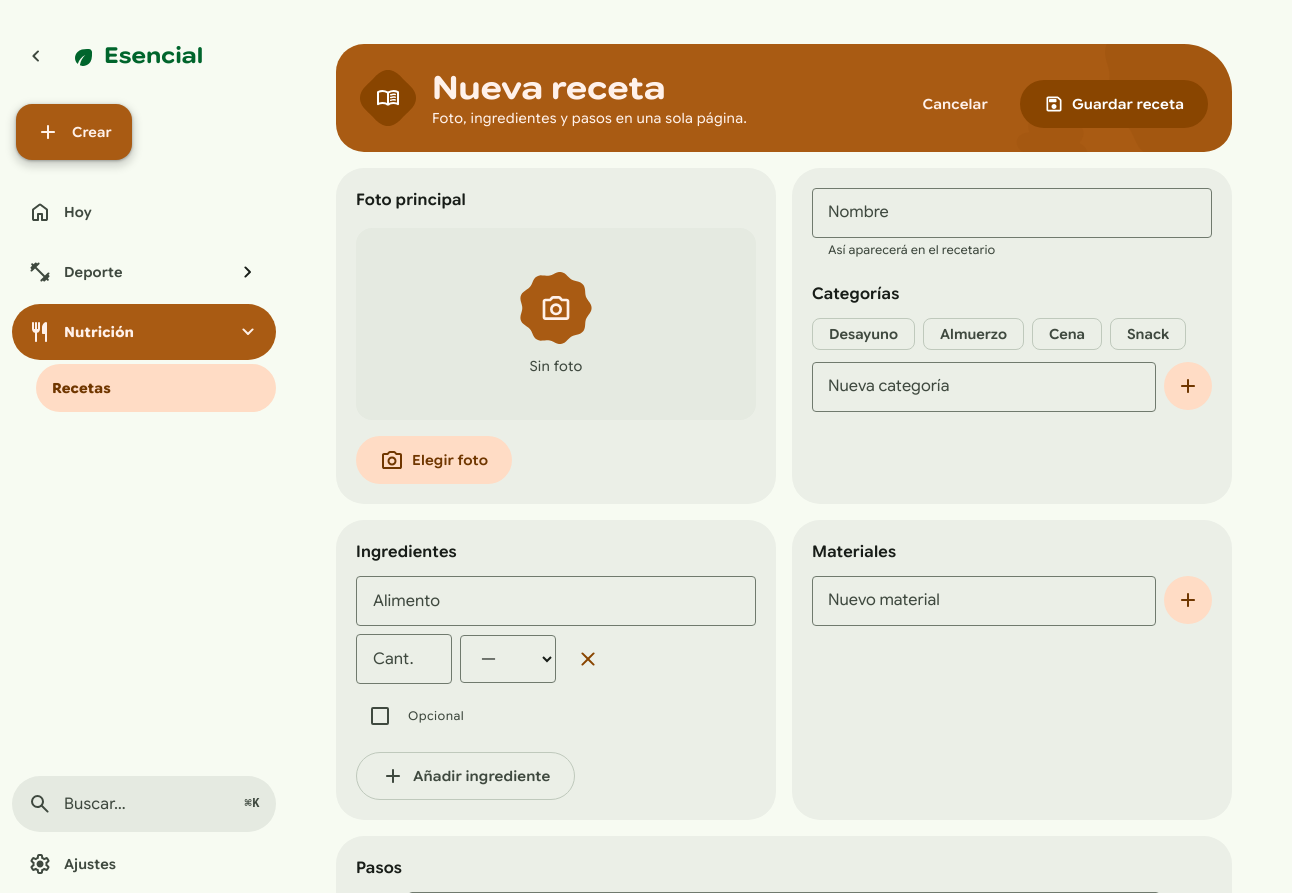
Scenario: nueva-receta: filas › materiales: añadir/eliminar chip
Expected: the heading "Nueva receta" is shown, [432,68,666,108]
In the field labelled "Nuevo material": [984, 601] box [812,576,1156,626], type "olla"
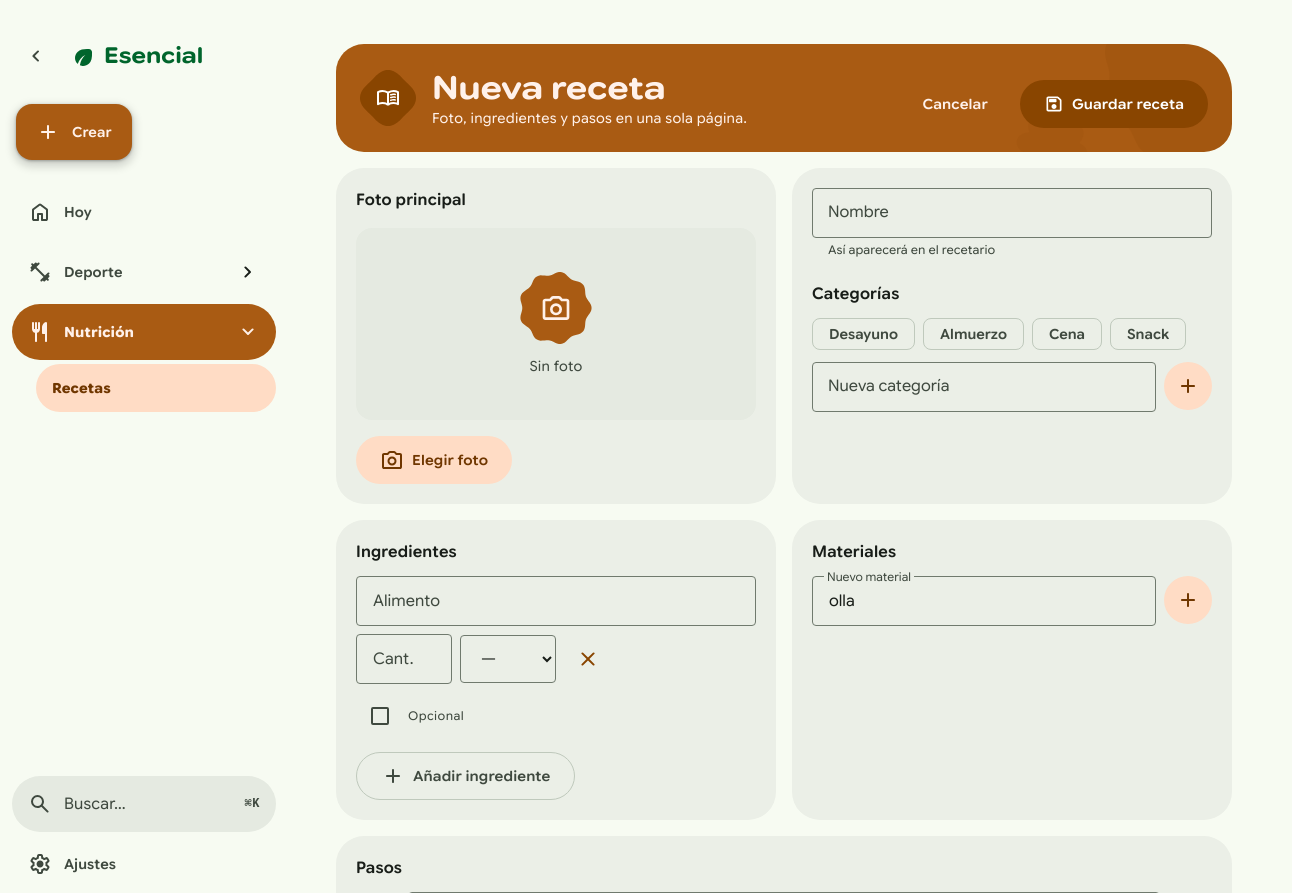
Click the button named "Añadir material": [1188, 600] box [1164,576,1212,624]
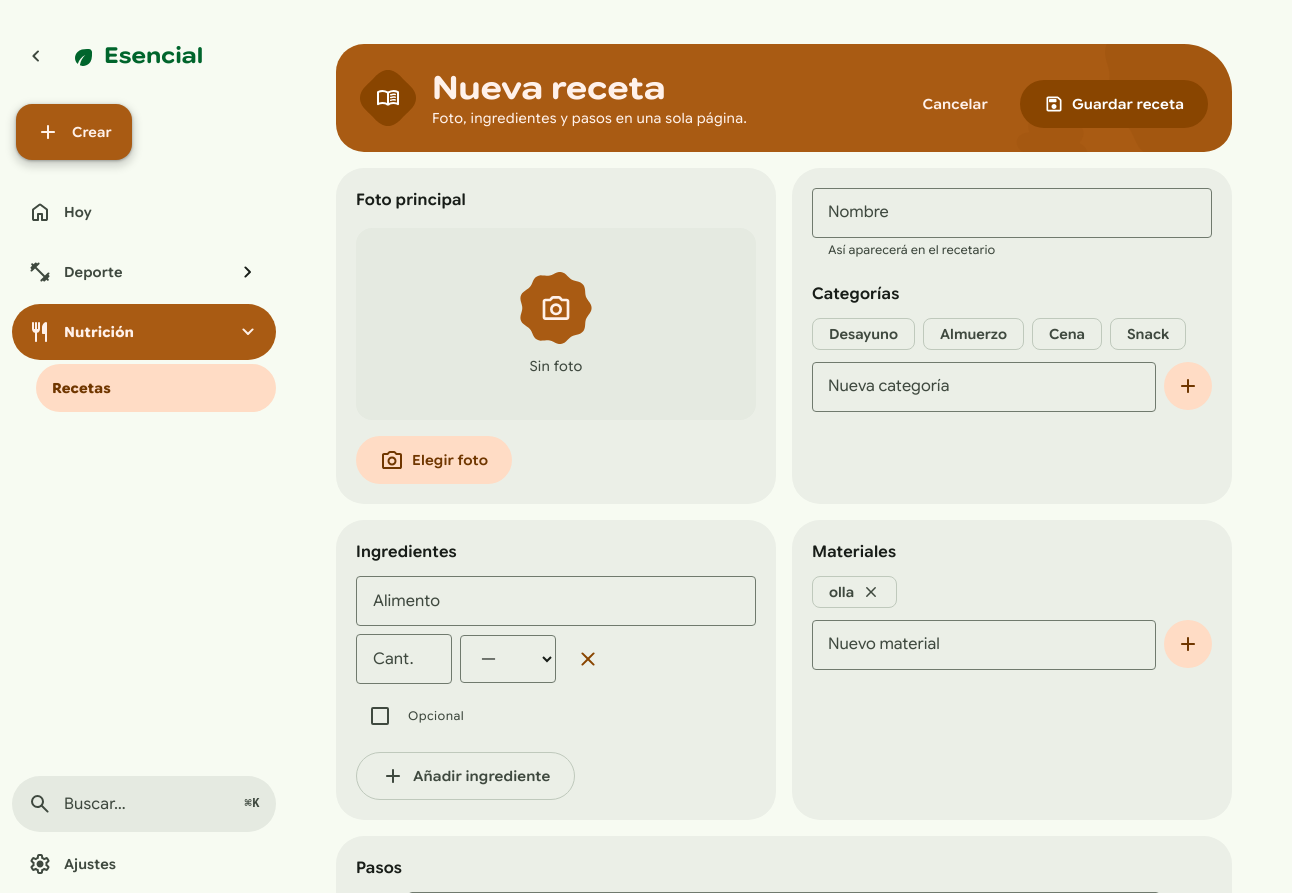
Expected: the button "olla" is shown
Click the button with aria-label "Quitar material olla": [855, 592] box [812,576,897,608]
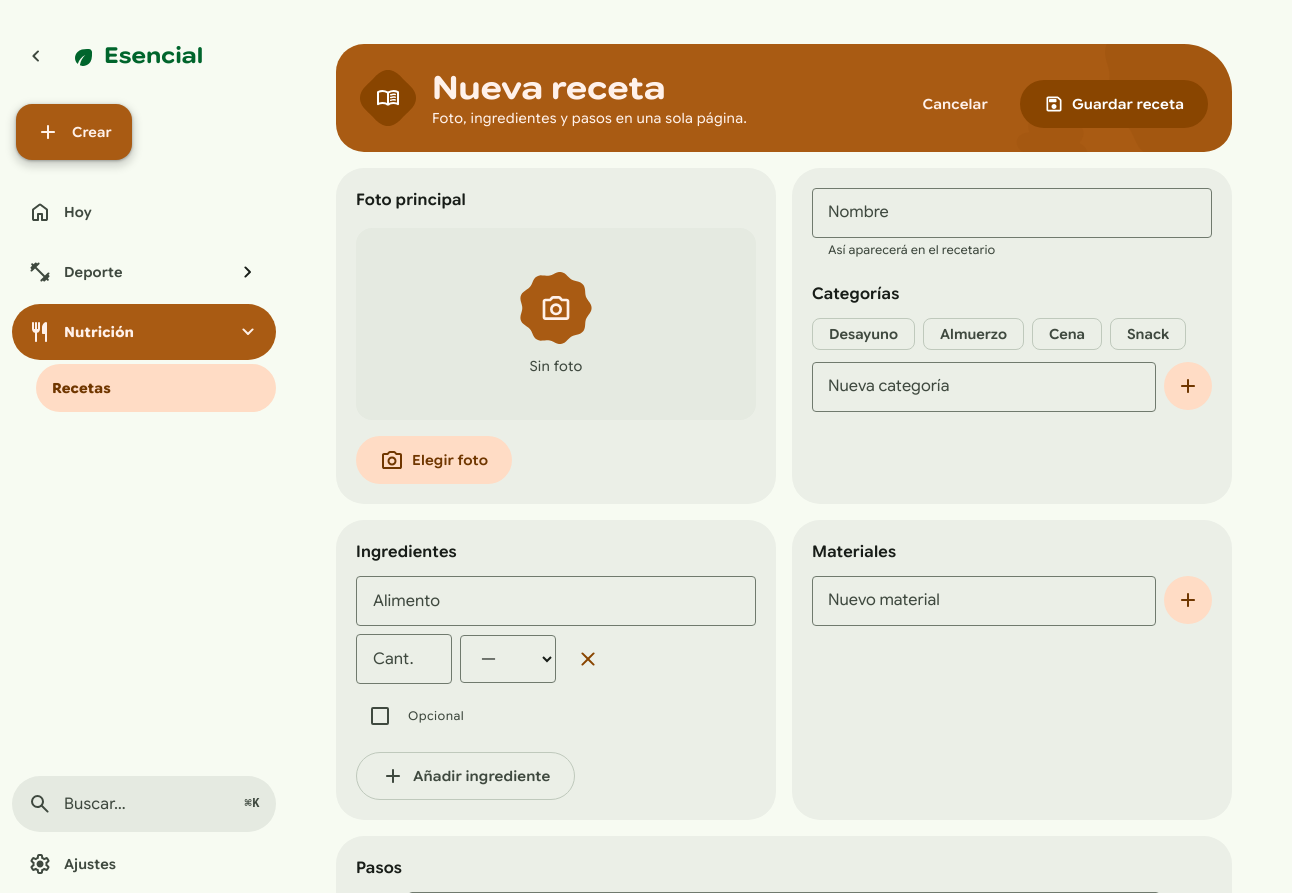
Expected: the button "olla" is gone
